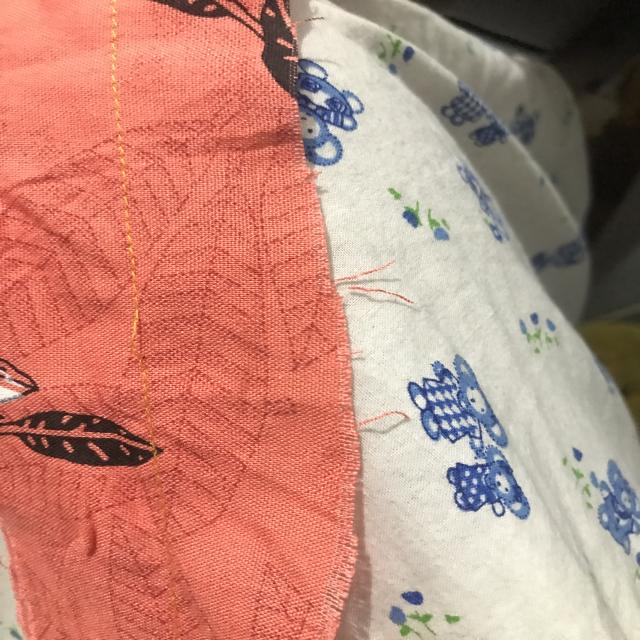good: (96, 112, 152, 244)
skip: (111, 297, 178, 382)
